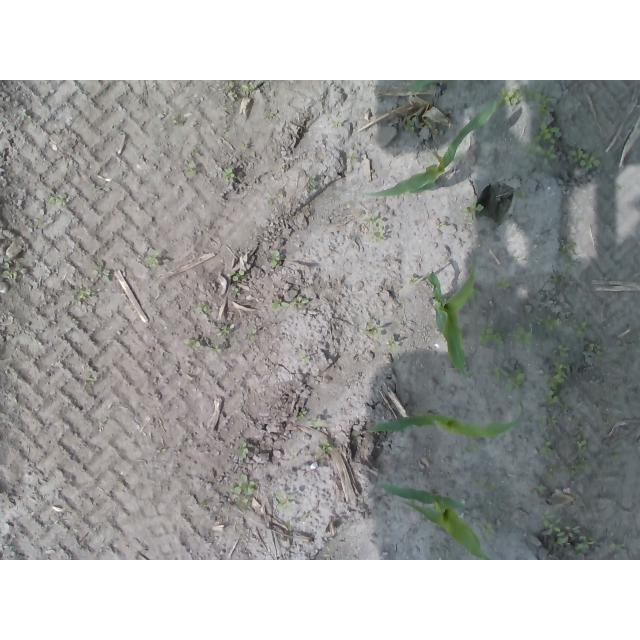Maize: (366, 100, 497, 201), (375, 478, 493, 558), (425, 269, 475, 376), (367, 411, 522, 442)
Weeds: (542, 508, 595, 559), (543, 345, 575, 406), (527, 109, 561, 161), (477, 319, 535, 349), (498, 84, 556, 109), (569, 430, 592, 478), (574, 319, 603, 357), (225, 473, 256, 508), (490, 364, 527, 389), (568, 146, 605, 170), (533, 312, 562, 340), (462, 195, 485, 224), (368, 212, 387, 242), (537, 440, 560, 462), (228, 268, 245, 297), (478, 519, 498, 541), (0, 254, 16, 279), (276, 492, 295, 512), (478, 473, 496, 492), (73, 289, 96, 303), (144, 250, 162, 266), (318, 438, 336, 454), (94, 264, 111, 280), (495, 275, 513, 290), (270, 296, 289, 310), (362, 321, 381, 335), (560, 240, 578, 254), (270, 249, 283, 268), (403, 116, 418, 132), (238, 439, 251, 457), (239, 80, 256, 93), (216, 324, 233, 337), (183, 160, 195, 178), (185, 337, 201, 350), (609, 449, 623, 463), (542, 414, 556, 428), (49, 197, 68, 207), (433, 217, 447, 230), (195, 302, 209, 315), (385, 339, 399, 352), (293, 294, 308, 306), (530, 484, 546, 495), (222, 167, 236, 179), (329, 117, 343, 129), (545, 465, 556, 479), (209, 343, 224, 353), (515, 189, 530, 199), (308, 176, 316, 194), (297, 410, 308, 423), (408, 275, 421, 285), (304, 420, 320, 427), (86, 375, 95, 385), (200, 500, 208, 508)
